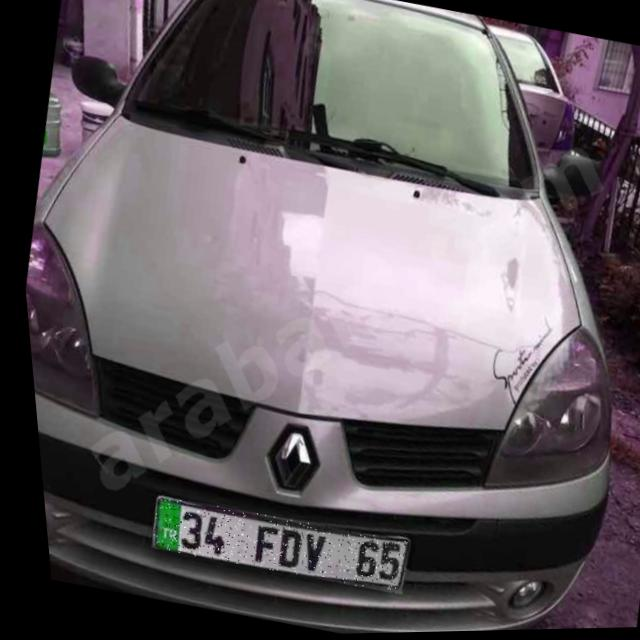license_plate: (136, 491, 401, 601)
